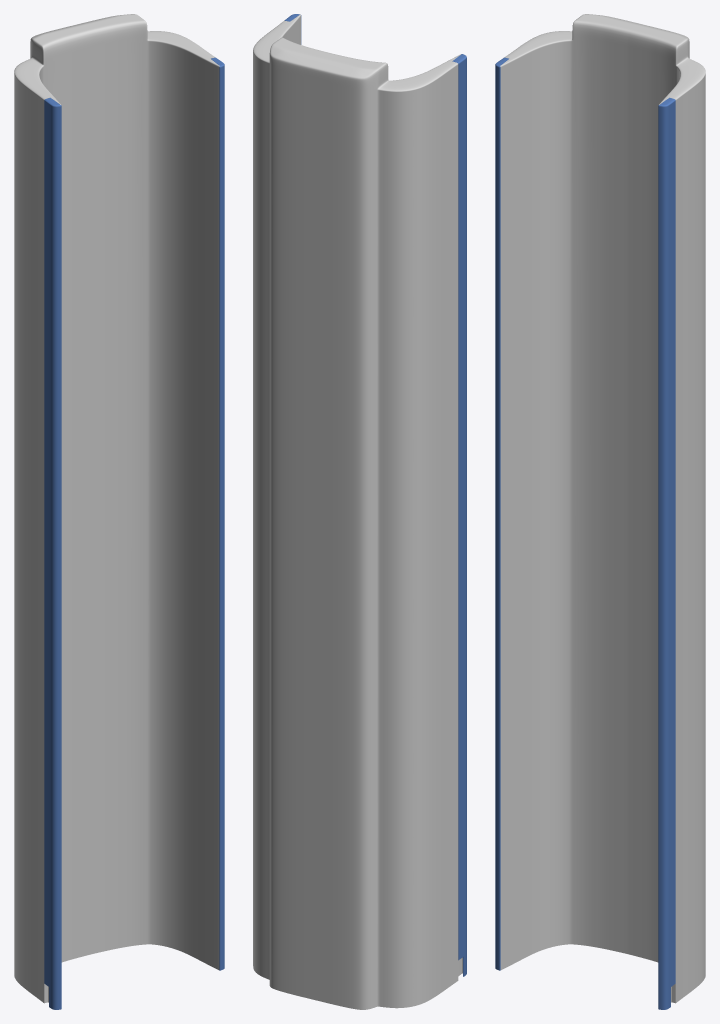
File: lowerbody.obj
3 views of the same model, side by side, from view 1: azimuth 30°, elevation 25°; view 2: azimuth 150°, elevation 25°; view 3: azimuth 330°, elevation 25° (orthographic).
Visible parts, largest first — view 1: xray01, xray04; view 2: xray01, xray04; view 3: xray01, xray04.
Boxes of the visible parts, <box> form: xray01: <box>14,14,219,1003</box>; xray04: <box>44,57,224,1009</box>; xray01: <box>253,14,462,1009</box>; xray04: <box>284,14,466,976</box>; xray01: <box>500,14,705,1003</box>; xray04: <box>495,57,675,1009</box>.
Bounding box in the file's own units: 298 × 1520 × 196.
